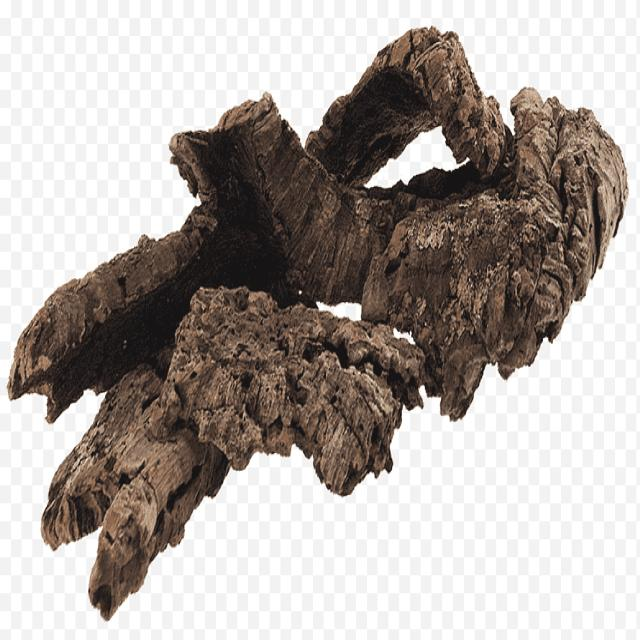Pecahan Agregat: (12, 39, 614, 579)
